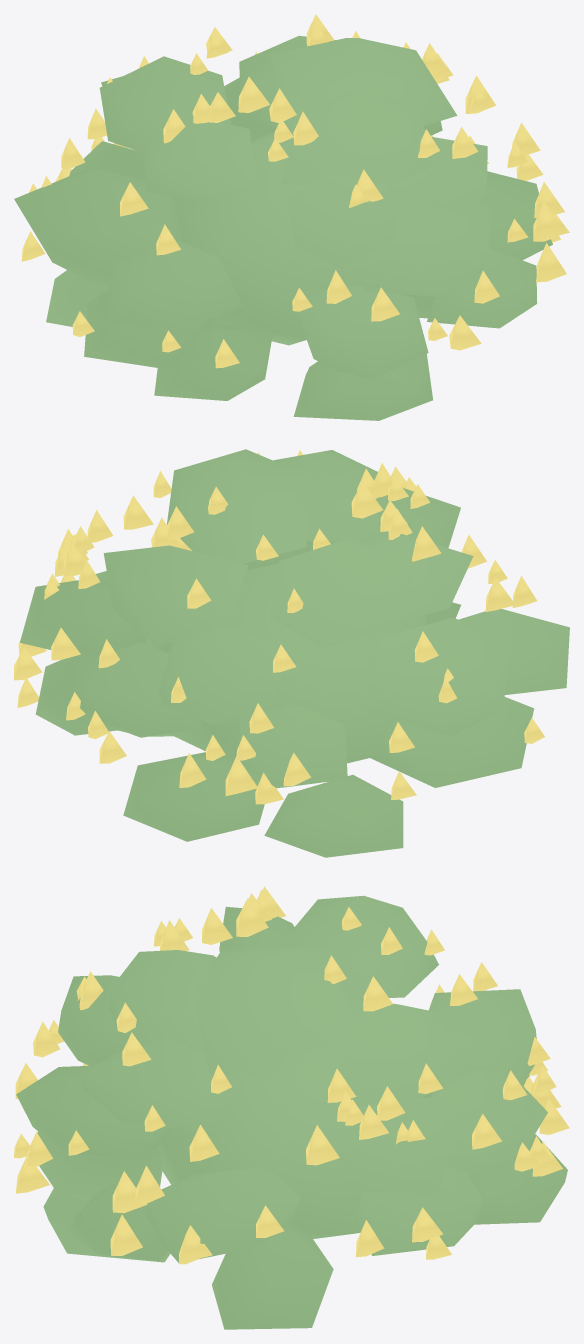
File: Blender_Gorse_3_Far.glb
3 views of the same model, one above another, from view 1: azimuth 30°, elevation 25°; view 2: azimuth 150°, elevation 25°; view 3: azimuth 270°, elevation 25° (orthographic). The views are drawn at different scales.
Visible parts, largest first — view 1: Blender_Gorse_3_Far; view 2: Blender_Gorse_3_Far; view 3: Blender_Gorse_3_Far.
Part boxes in pixels (<box>): Blender_Gorse_3_Far: <box>14,14,569,420</box>; Blender_Gorse_3_Far: <box>14,449,569,857</box>; Blender_Gorse_3_Far: <box>14,886,569,1329</box>.
Bounding box in the file's own units: 3.08 × 1.83 × 2.91.
